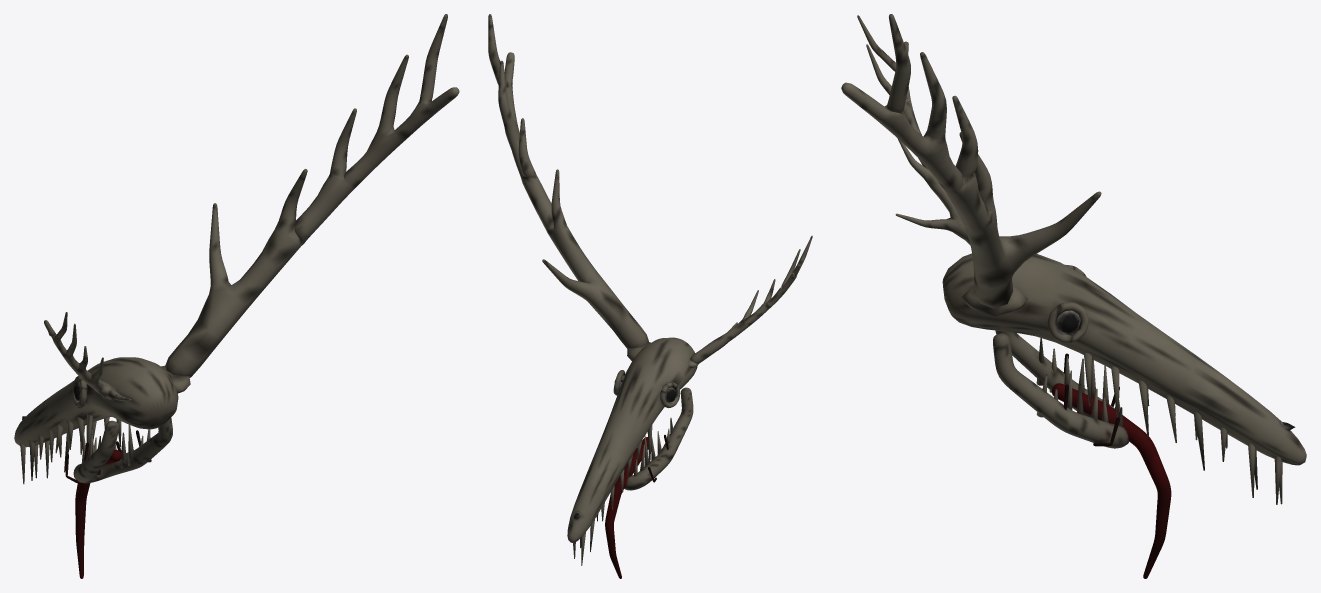
The model's file is wendigo_head.glb.
3 renders of one model, left to right at view 1: azimuth 30°, elevation 25°; view 2: azimuth 150°, elevation 25°; view 3: azimuth 270°, elevation 25°, orthographic. The views are drawn at different scales.
Visible parts, largest first — view 1: WendigoHead; view 2: WendigoHead; view 3: WendigoHead.
Part boxes in pixels (box(x1,y1,x2,y2)): WendigoHead: box(14, 14, 459, 578); WendigoHead: box(488, 14, 812, 578); WendigoHead: box(841, 14, 1306, 578).
Size of the model in its own units: 1.13 by 1.56 by 0.9033.
5 materials, 5 textured.
